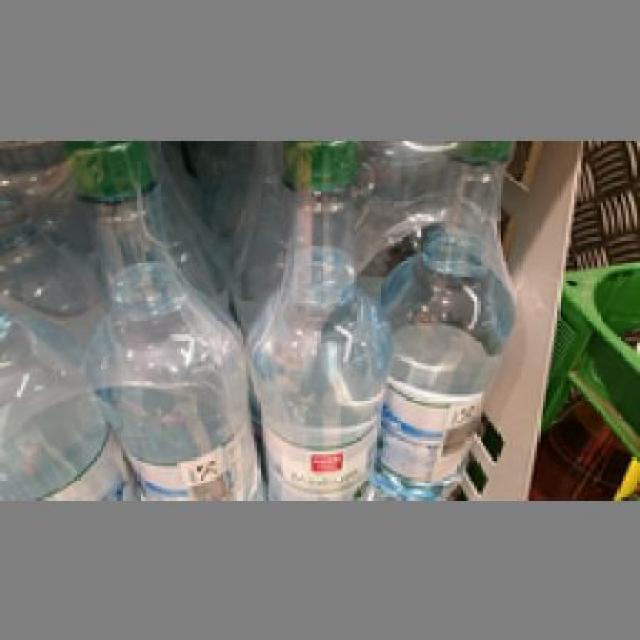Water: (57, 140, 254, 494), (234, 140, 380, 497), (374, 137, 512, 494)
